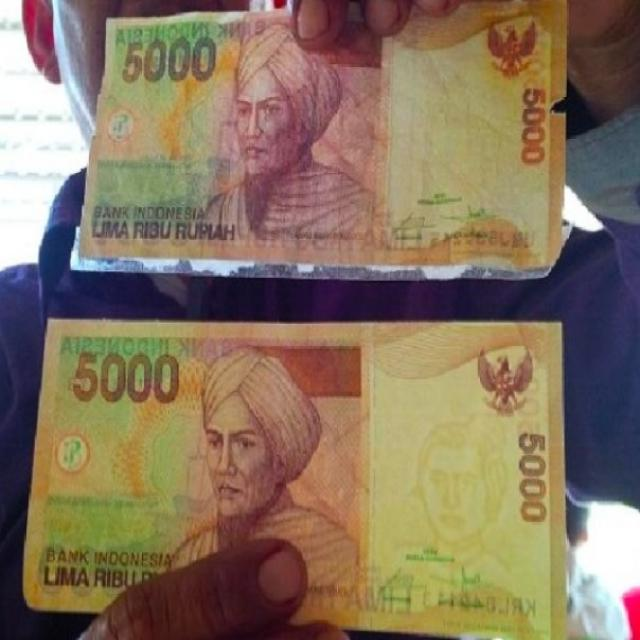lima ribu rupiah: (23, 319, 565, 637), (77, 0, 569, 271)
